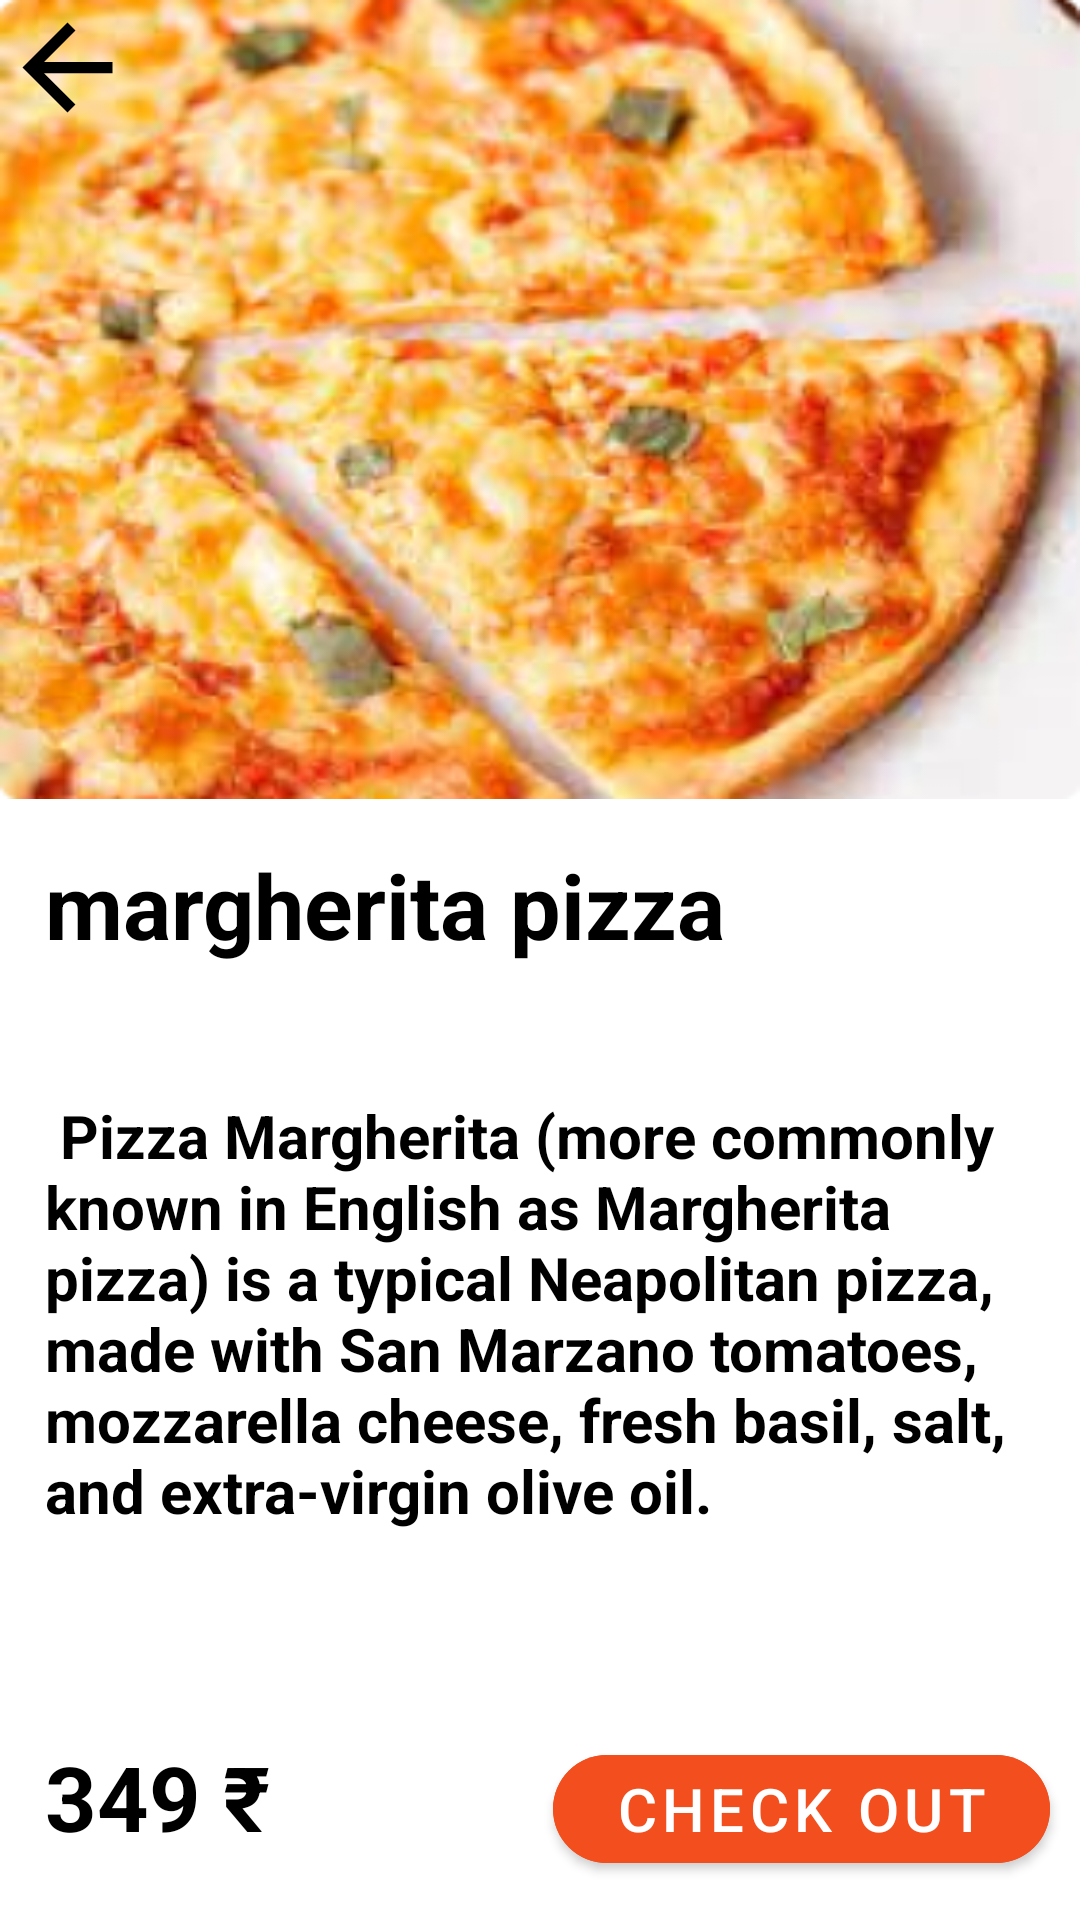

Named icons in this screenshot (1080 × 1920) and their centers, (x=x, y=y):
back: (x=67, y=67)
